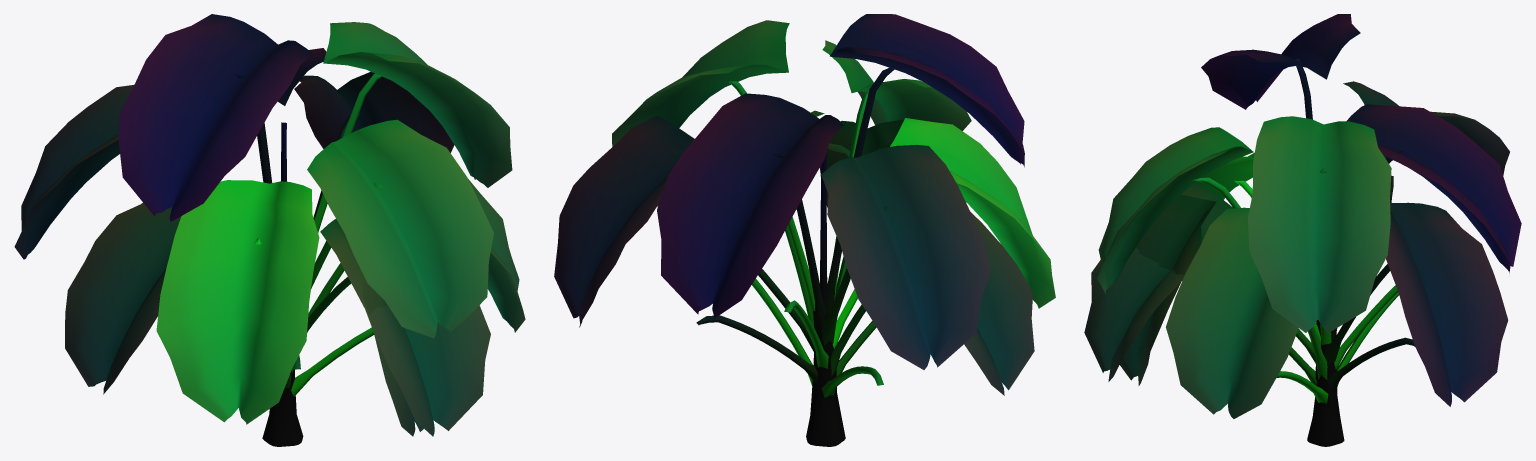
The model's file is Alocasia.fbx.
3 renders of one model, left to right at view 1: azimuth 30°, elevation 25°; view 2: azimuth 150°, elevation 25°; view 3: azimuth 270°, elevation 25°, orthographic. The views are drawn at different scales.
Parts seen in each view (by area): view 1: Alocasia; view 2: Alocasia; view 3: Alocasia.
Boxes of the visible parts, x1,y1,x2,y2 form: Alocasia: [14, 14, 525, 446]; Alocasia: [554, 14, 1055, 446]; Alocasia: [1084, 14, 1521, 446].
Bounding box in the file's own units: 208 × 193 × 200.
